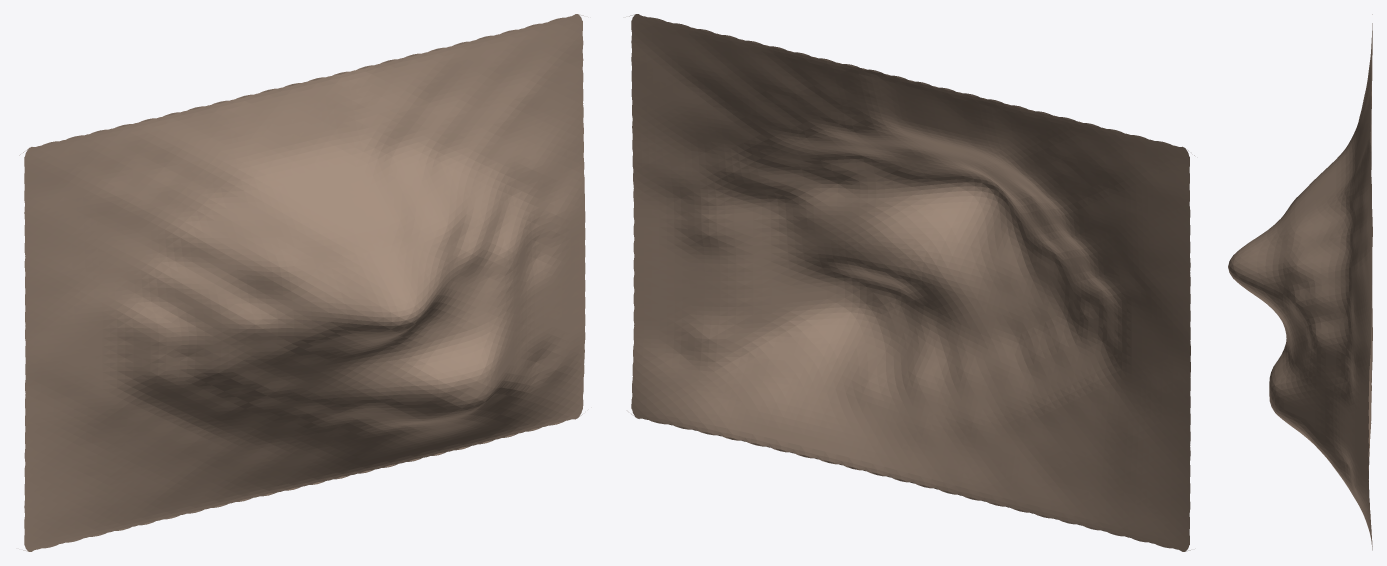
File: div_iteration_1.gltf
3 views of the same model, side by side, from view 1: azimuth 30°, elevation 25°; view 2: azimuth 150°, elevation 25°; view 3: azimuth 270°, elevation 25° (orthographic). The views are drawn at different scales.
Bounding box in the file's own units: 1277 × 854 × 346.
